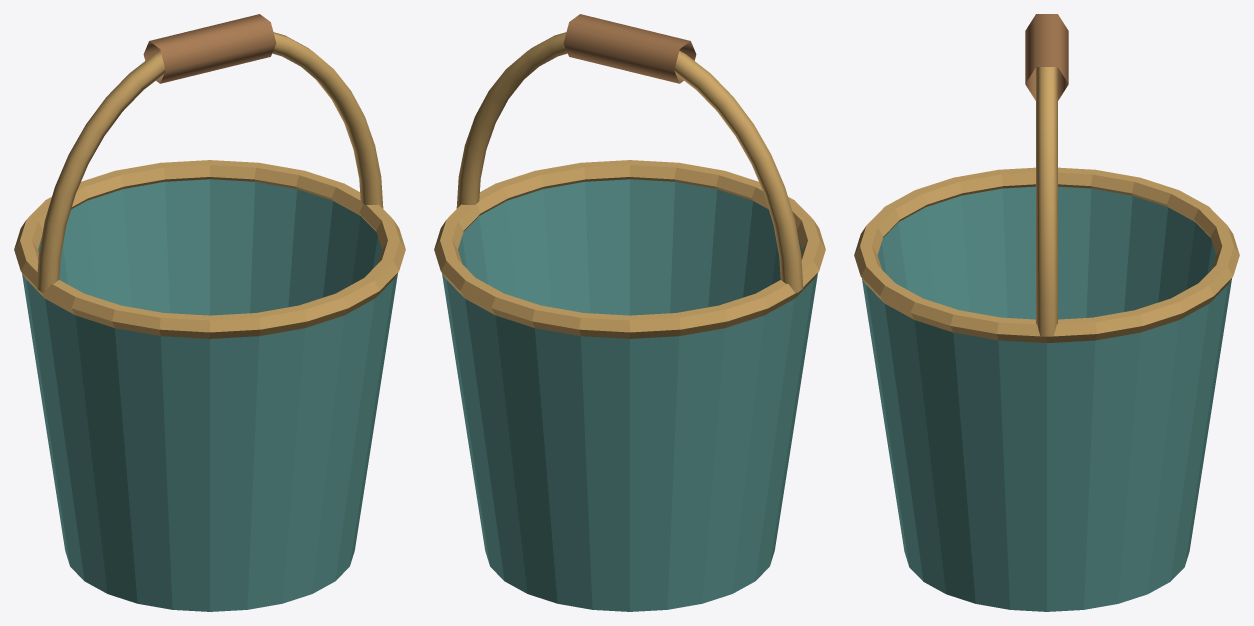
File: bait_bucket.glb
3 renders of one model, left to right at view 1: azimuth 30°, elevation 25°; view 2: azimuth 150°, elevation 25°; view 3: azimuth 270°, elevation 25°, orthographic.
Visible parts, largest first — view 1: Hollow_bucket, Rolled_rim, Swing_handle, Wood_grip; view 2: Hollow_bucket, Rolled_rim, Swing_handle, Wood_grip; view 3: Hollow_bucket, Rolled_rim, Swing_handle, Wood_grip.
Boxes of the visible parts, x1,y1,x2,y2 form: Hollow_bucket: (22,179,397,611); Rolled_rim: (14,160,405,338); Swing_handle: (36,32,383,292); Wood_grip: (143,14,276,83); Hollow_bucket: (442,179,817,611); Rolled_rim: (434,160,825,338); Swing_handle: (456,32,803,292); Wood_grip: (563,14,696,83); Hollow_bucket: (862,186,1231,611); Rolled_rim: (854,167,1239,343); Swing_handle: (1036,67,1057,336); Wood_grip: (1025,14,1068,100).
Size of the model in its own units: 0.4625 by 0.6725 by 0.46.
